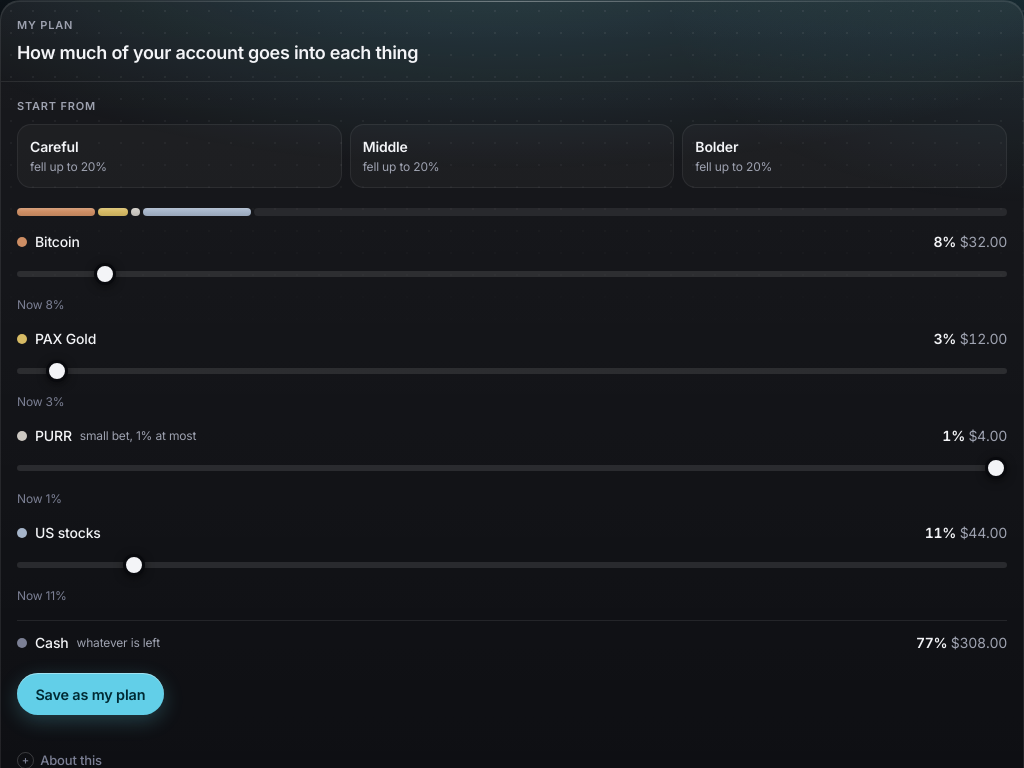
Test: PlanPanel › never lets the shares pass the whole account, or a small bet pass its cap
Set the slider named "US stocks share" to "100" at (999, 565), box [17,551,1007,579]
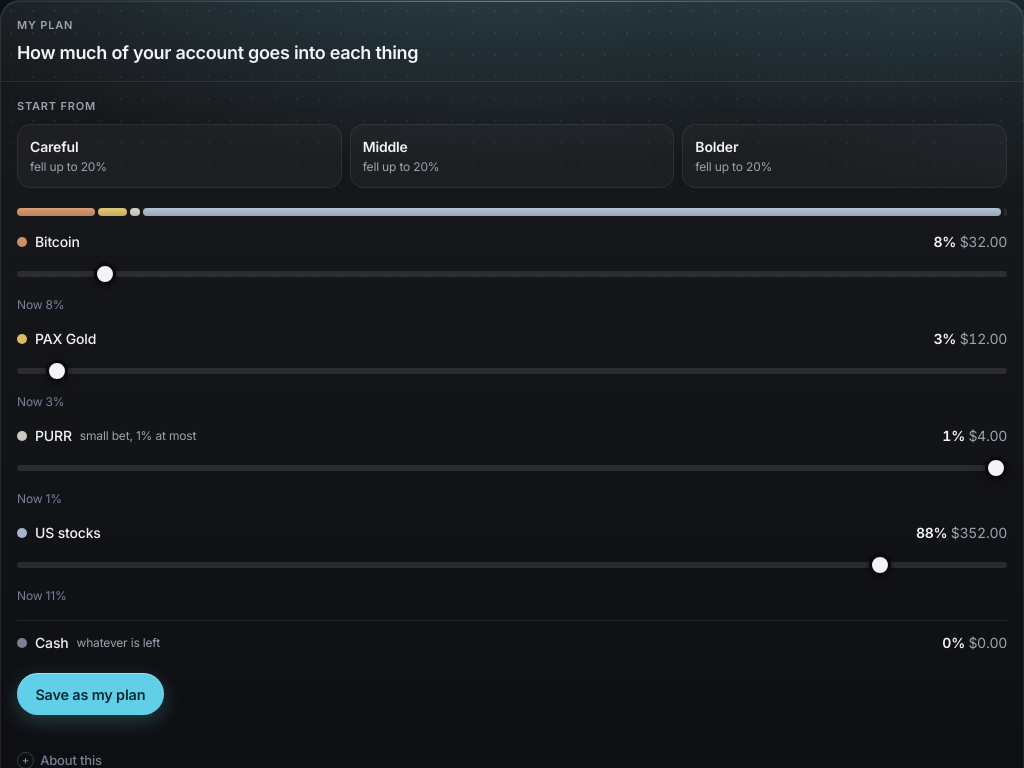
expect the slider named "US stocks share" holds "88": met, box [17,551,1007,579]
